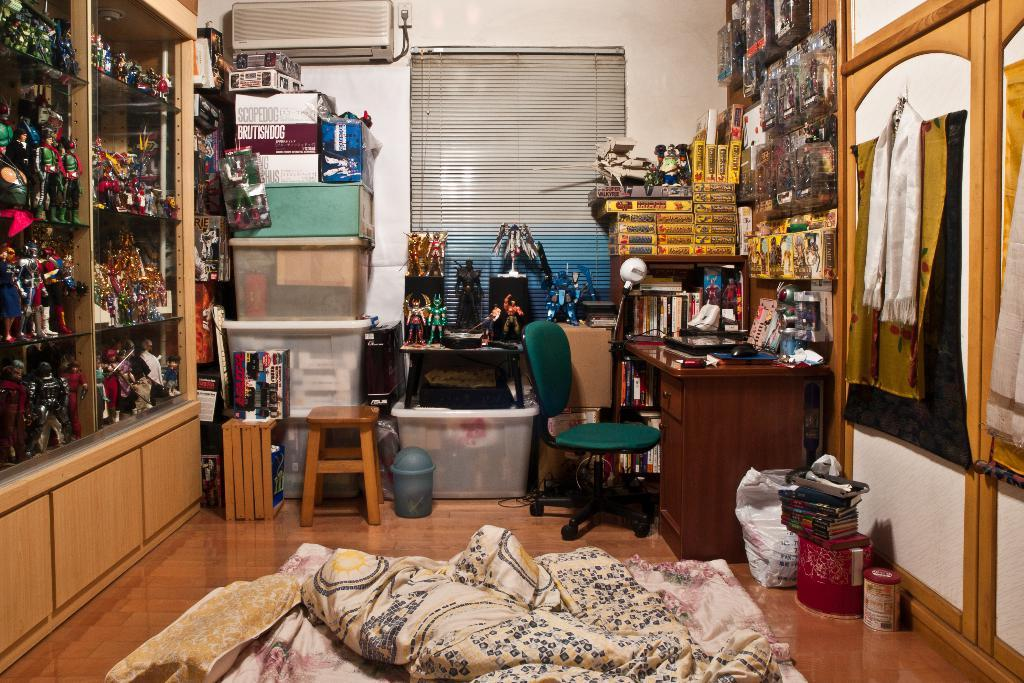Chair: (517, 321, 660, 544)
